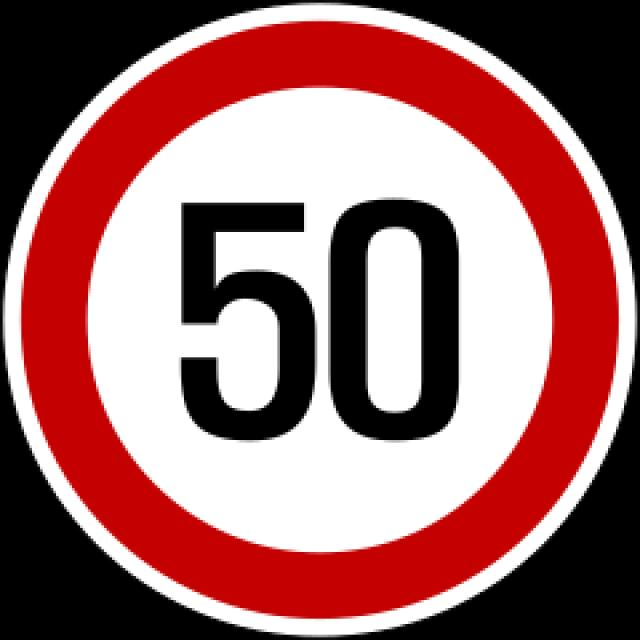Speed Limit -50-: (164, 187, 486, 449)
